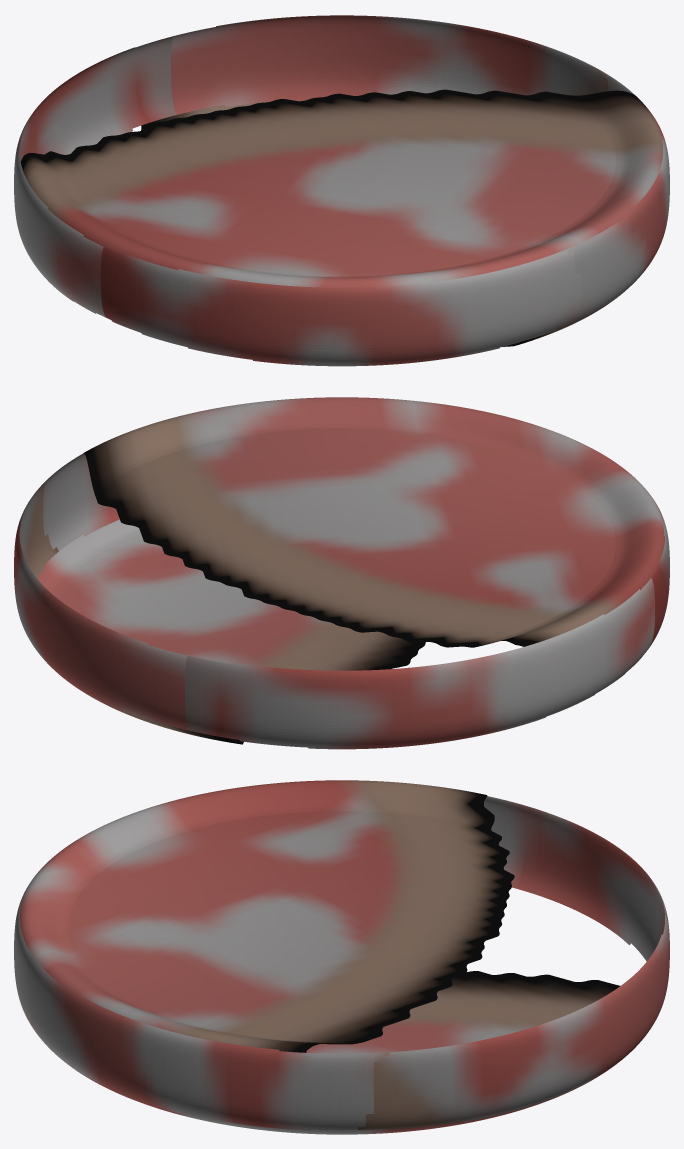
Rendered from pizza.fbx.
3 renders of one model, top to bottom at view 1: azimuth 30°, elevation 25°; view 2: azimuth 150°, elevation 25°; view 3: azimuth 270°, elevation 25°, orthographic.
Parts seen in each view (by area): view 1: Pizza; view 2: Pizza; view 3: Pizza.
Boxes of the visible parts, <box> form: Pizza: <box>14,15,669,366</box>; Pizza: <box>14,397,669,749</box>; Pizza: <box>14,780,669,1134</box>.
Bounding box in the file's own units: 397 × 65.52 × 397.
